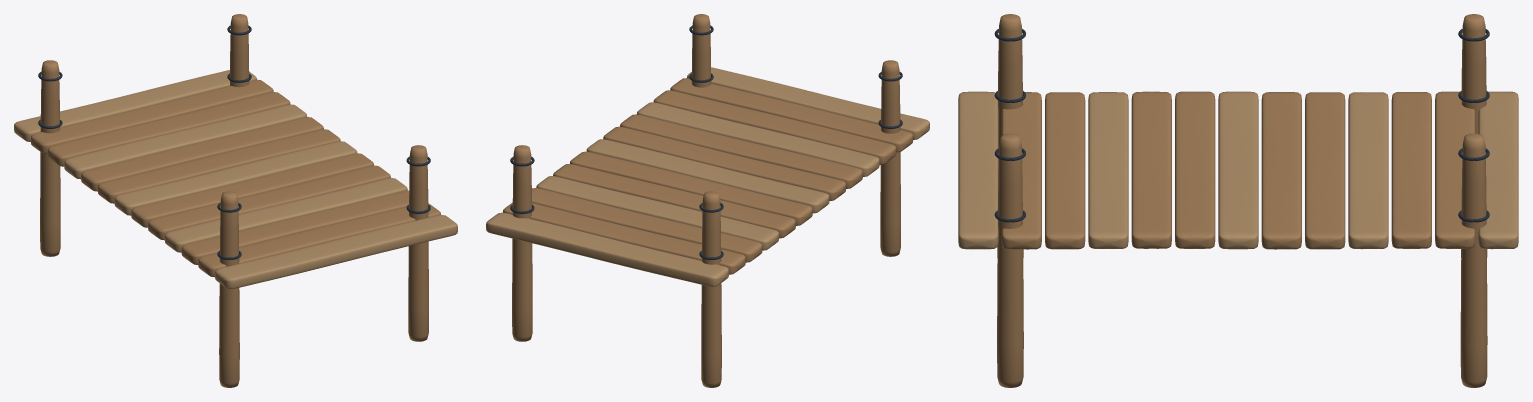
File: Dock_3m.glb
The picture shows the model from 3 angles, left to right: view 1: azimuth 30°, elevation 25°; view 2: azimuth 150°, elevation 25°; view 3: azimuth 270°, elevation 25°; orthographic projection. The views are drawn at different scales.
Visible parts, largest first — view 1: Dock_3m_GameMesh; view 2: Dock_3m_GameMesh; view 3: Dock_3m_GameMesh.
Part boxes in pixels (x1,y1,x2,y2): Dock_3m_GameMesh: [14, 14, 457, 387]; Dock_3m_GameMesh: [486, 14, 929, 387]; Dock_3m_GameMesh: [958, 14, 1518, 387].
Size of the model in its own units: 1.84 by 1.45 by 2.97.
